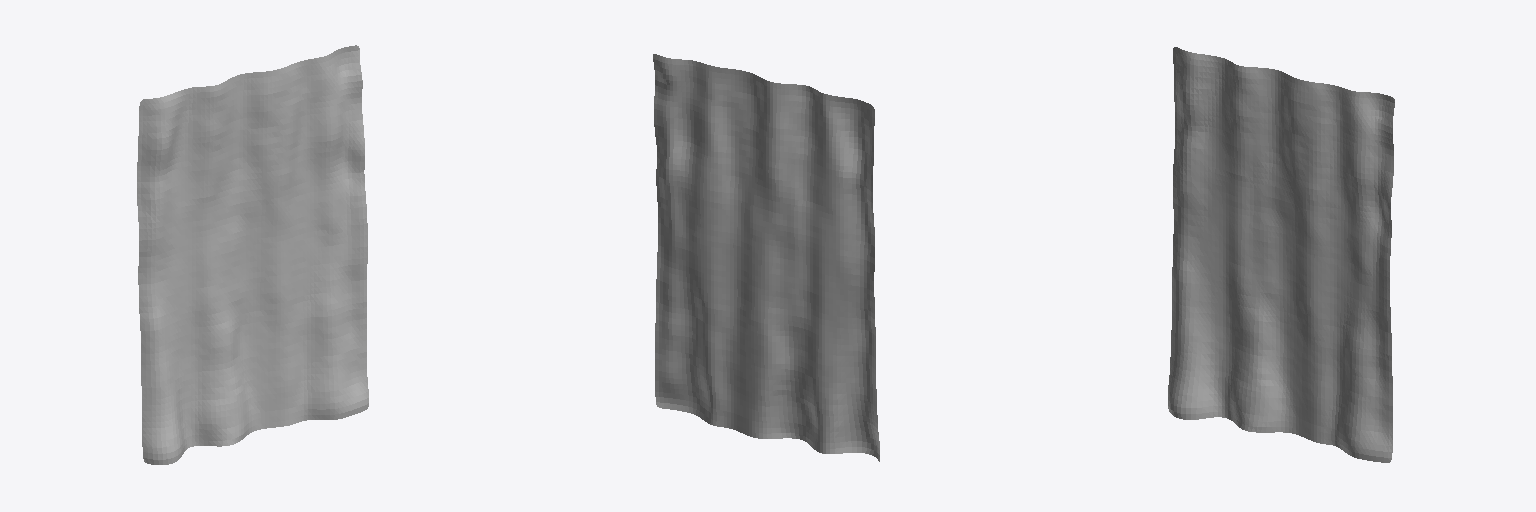
The model's file is SM_Curtain_highpoly_02_1.OBJ.
3 views of the same model, side by side, from view 1: azimuth 30°, elevation 25°; view 2: azimuth 150°, elevation 25°; view 3: azimuth 330°, elevation 25° (orthographic).
Visible parts, largest first — view 1: Group4992; view 2: Group4992; view 3: Group4992.
Part boxes in pixels (x1,y1,x2,y2): Group4992: (137,45,368,464); Group4992: (653,54,879,461); Group4992: (1168,47,1394,462).
Bounding box in the file's own units: 2.15 × 3.28 × 0.2382.